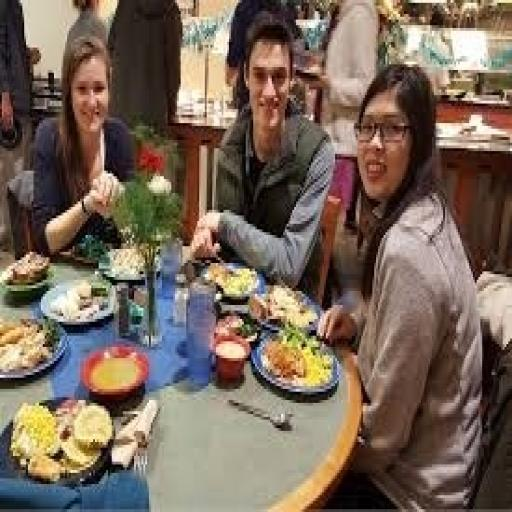eating: (9, 11, 488, 504)
